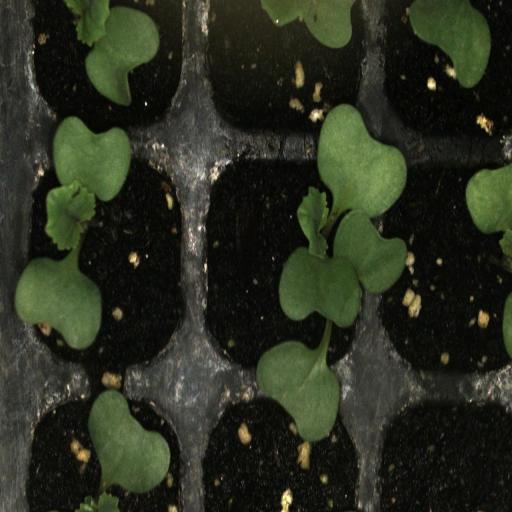seedling: (21, 144, 194, 386), (18, 0, 196, 145), (22, 386, 197, 512)
twoseedling: (195, 146, 371, 390)
